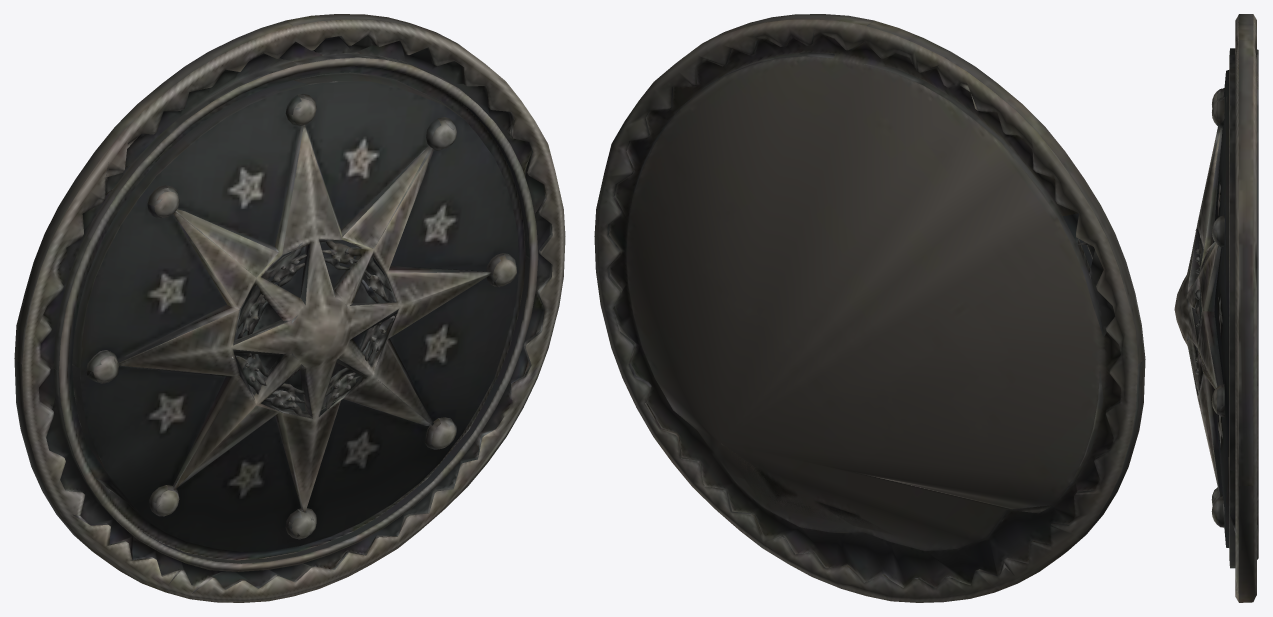
Rendered from sliver-coin.glb.
3 renders of one model, left to right at view 1: azimuth 30°, elevation 25°; view 2: azimuth 150°, elevation 25°; view 3: azimuth 270°, elevation 25°, orthographic. The views are drawn at different scales.
Visible parts, largest first — view 1: midway-fit; view 2: midway-fit; view 3: midway-fit.
Part boxes in pixels (<box>): midway-fit: <box>14,14,565,602</box>; midway-fit: <box>594,14,1145,602</box>; midway-fit: <box>1174,14,1258,602</box>.
Bounding box in the file's own units: 0.9969 × 1 × 0.1421.
Materials: 1 (1 with a texture image).
